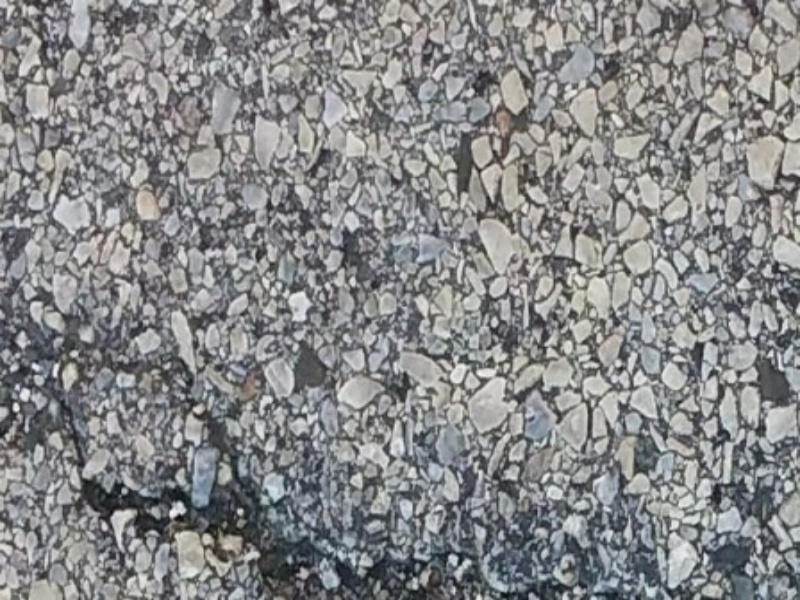crack: (14, 353, 509, 600)
